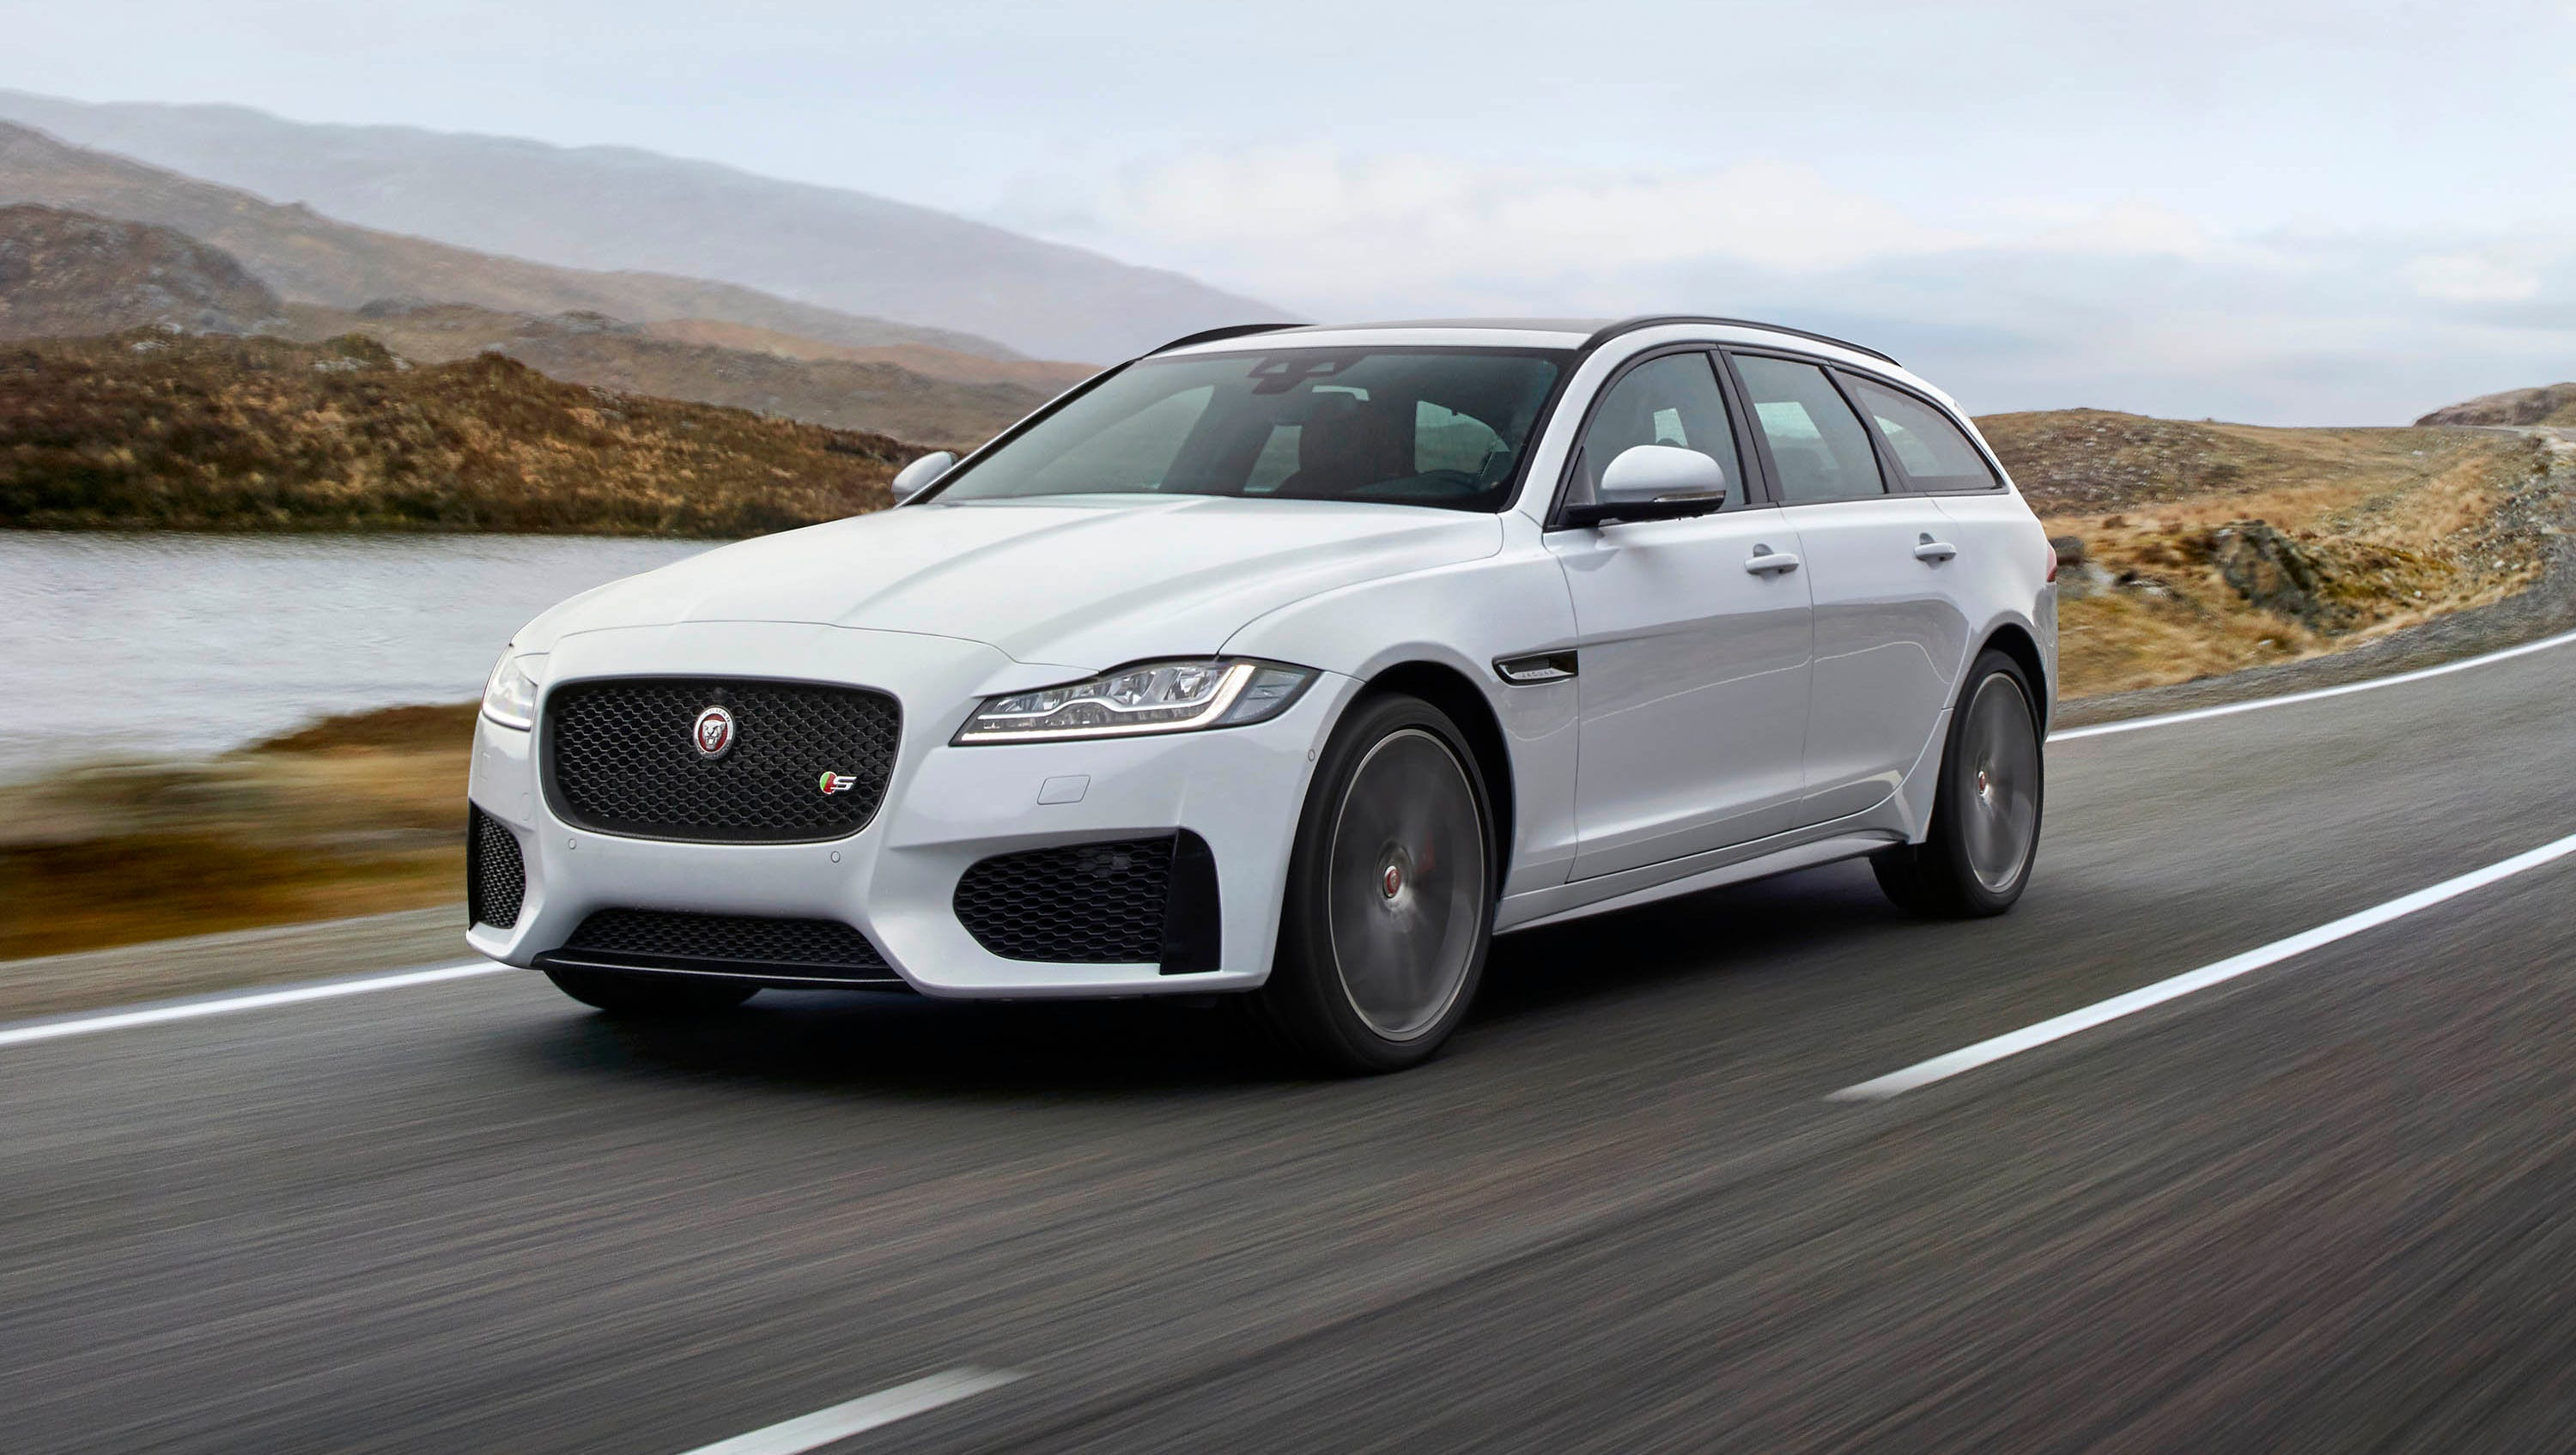car: (465, 308, 2061, 1080)
